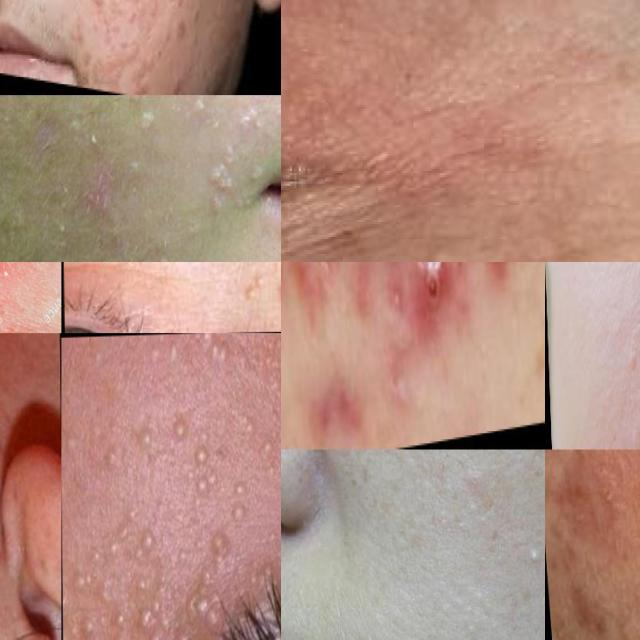acne_scars: (90, 159, 132, 225)
flat_wart: (97, 0, 171, 95), (68, 0, 130, 31), (127, 95, 175, 135), (191, 95, 224, 121)
milium: (173, 525, 232, 640), (369, 232, 552, 262), (202, 143, 240, 224), (231, 269, 281, 312), (193, 434, 221, 504), (120, 524, 154, 579), (137, 587, 169, 640), (230, 476, 251, 524), (133, 418, 157, 457), (513, 450, 545, 478), (519, 537, 545, 571), (207, 336, 232, 366), (170, 410, 188, 446), (258, 432, 274, 462), (82, 611, 98, 640), (112, 626, 129, 640)
papule: (486, 262, 512, 291)
pustule: (413, 262, 453, 317)
